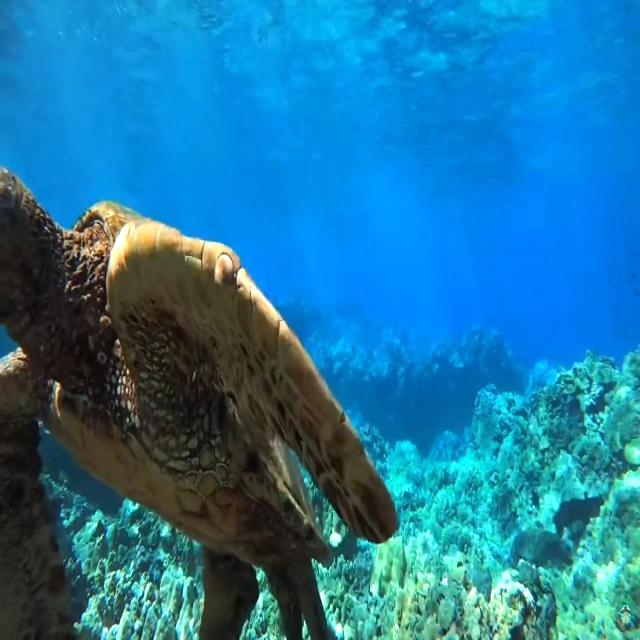Sea turtle: (0, 154, 401, 640)
